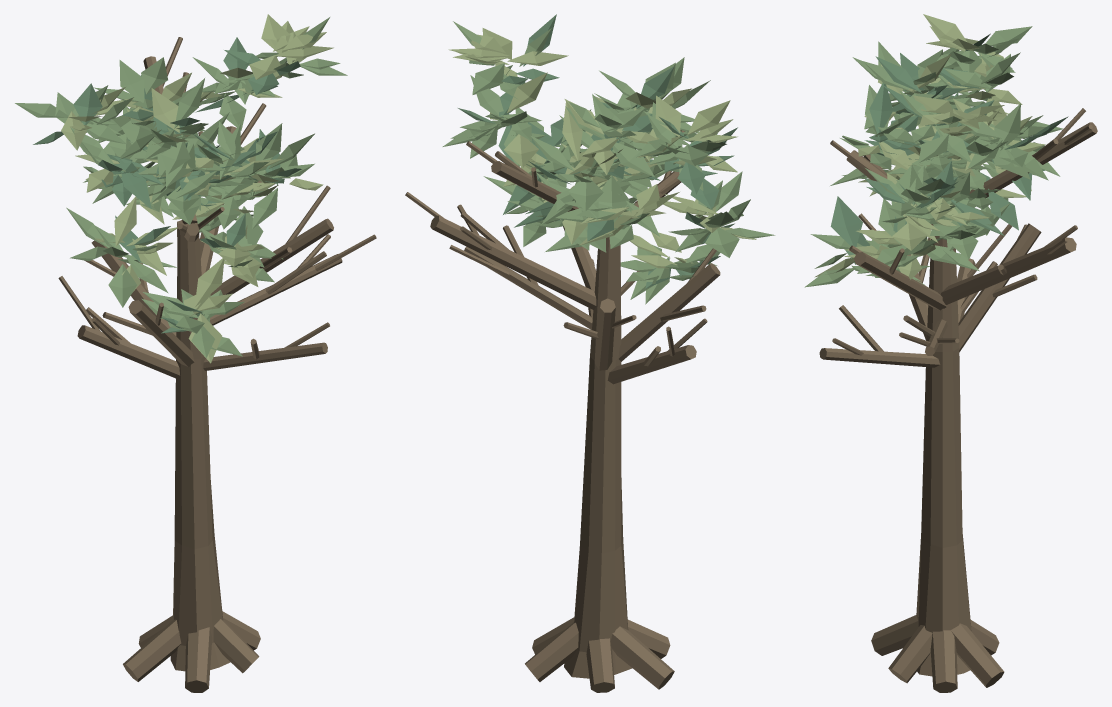
The model's file is coastal_tree.glb.
The picture shows the model from 3 angles, left to right: view 1: azimuth 30°, elevation 25°; view 2: azimuth 150°, elevation 25°; view 3: azimuth 270°, elevation 25°; orthographic projection.
Parts seen in each view (by area): view 1: coastal_tree LOD0; view 2: coastal_tree LOD0; view 3: coastal_tree LOD0.
Boxes of the visible parts, <box> form: coastal_tree LOD0: <box>15,14,376,692</box>; coastal_tree LOD0: <box>405,14,775,692</box>; coastal_tree LOD0: <box>804,14,1097,692</box>.
Size of what is drawn, in the model's own units: 4.68 by 9.17 by 3.93.
